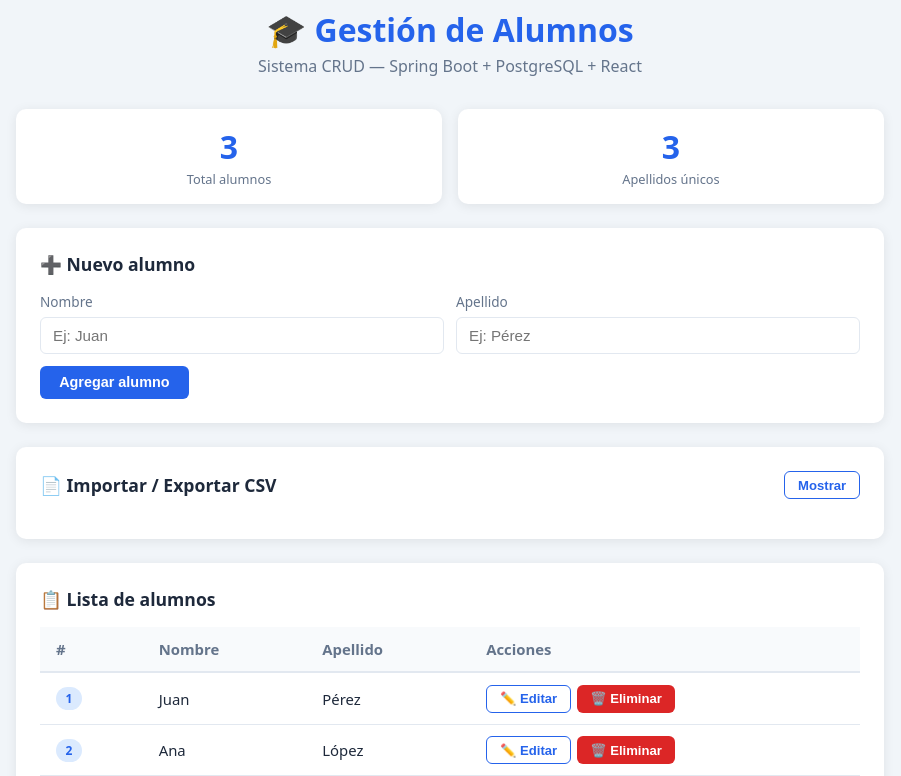
Test: App — flujo de edición › cancela la edición al hacer click en Cancelar
Click the button titled "Editar" in the row of "Juan" at coordinates (529, 699), box [486,684,571,713]
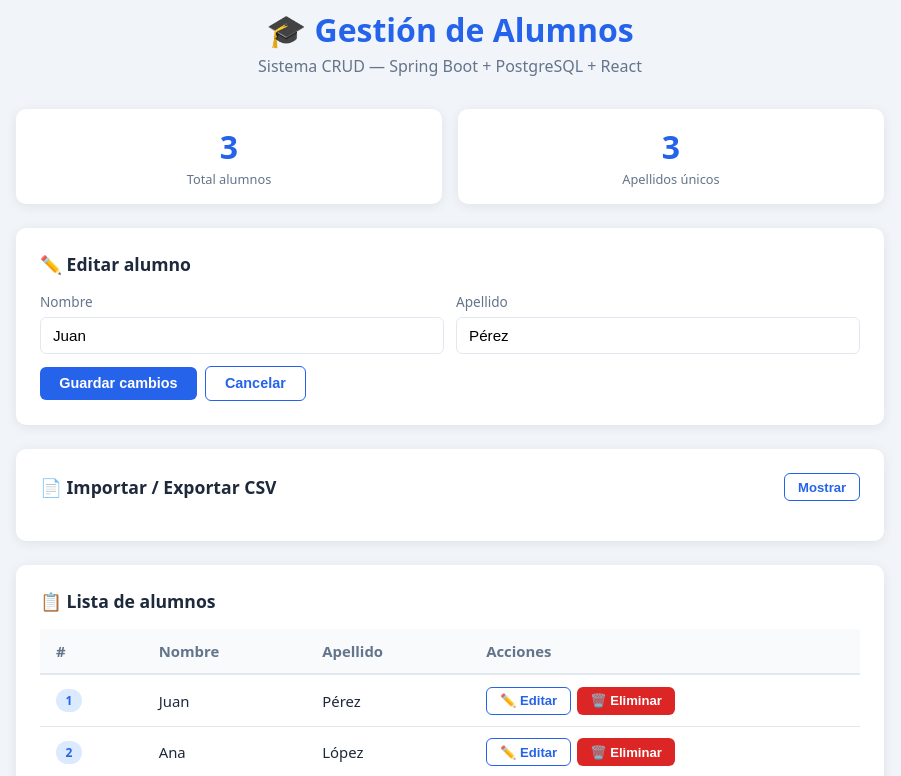
Now the button "Cancelar" is shown
Click the button "Cancelar" at coordinates (255, 383), box [205,366,306,401]
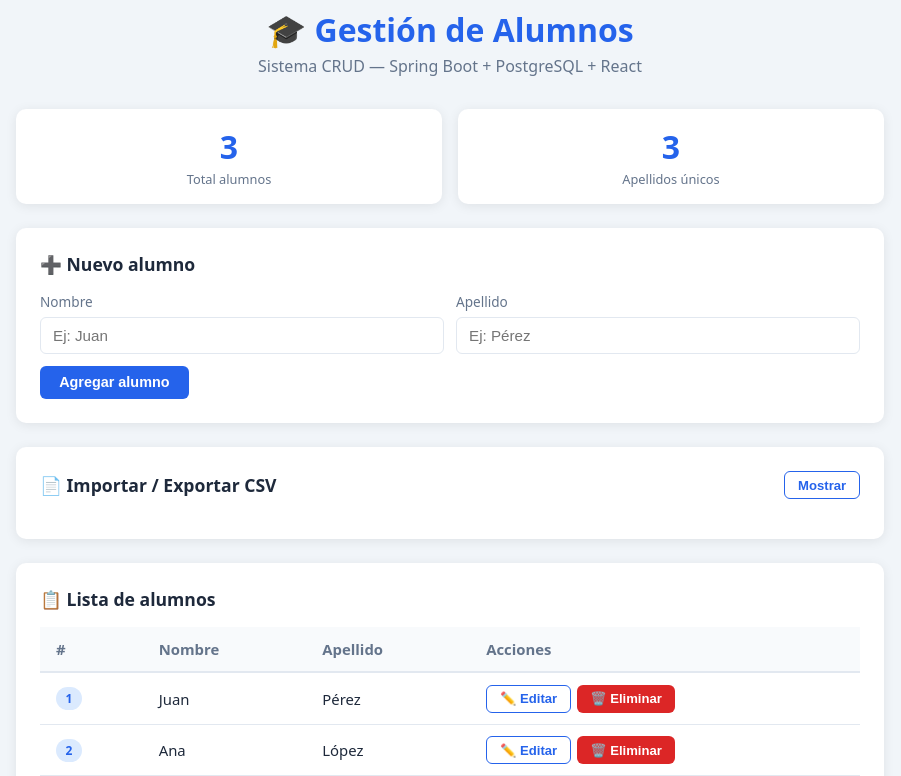
Now the text "➕ Nuevo alumno" is shown, box [40,252,195,276]
